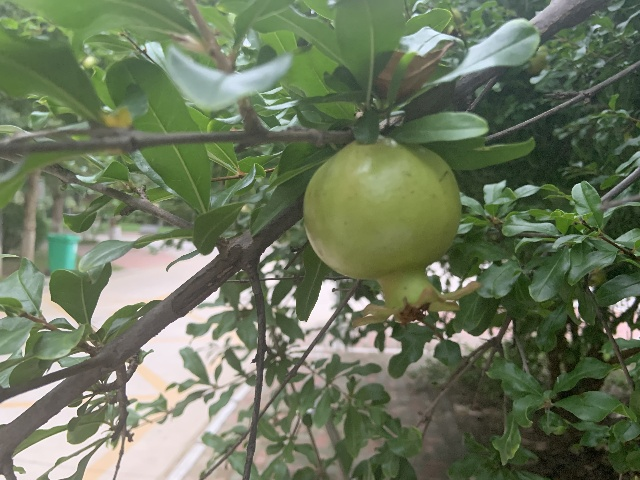mid-growth: (302, 137, 482, 331)
